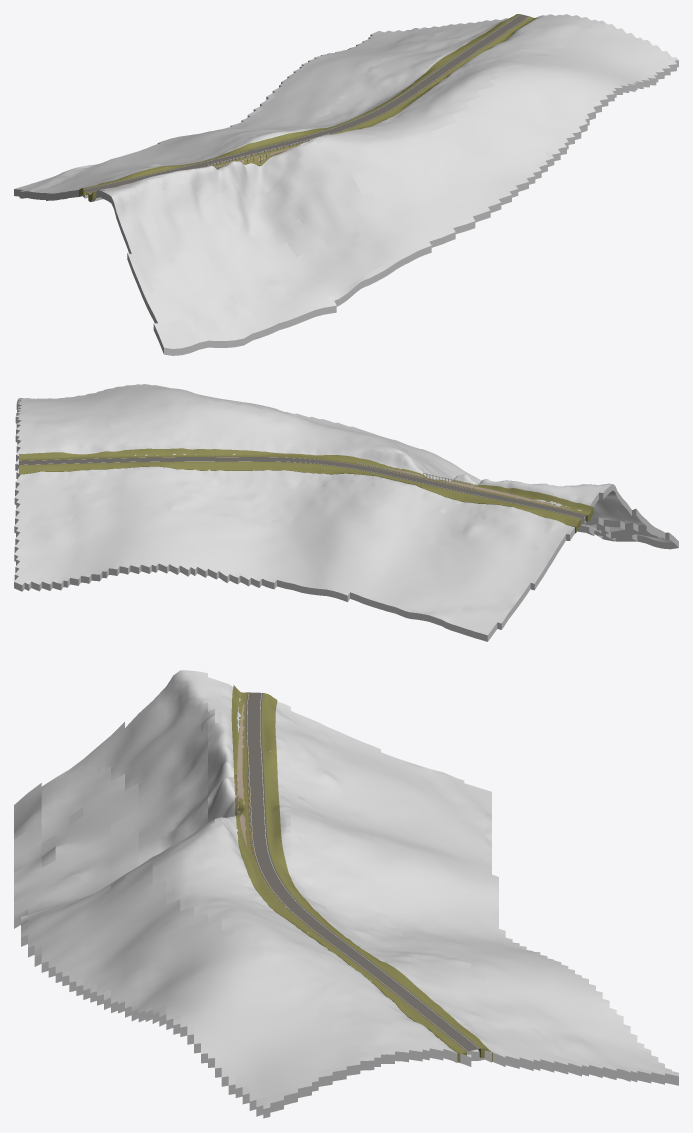
The model's file is conz_18.glb.
3 renders of one model, top to bottom at view 1: azimuth 30°, elevation 25°; view 2: azimuth 150°, elevation 25°; view 3: azimuth 270°, elevation 25°, orthographic. The views are drawn at different scales.
Visible parts, largest first — view 1: terrain18, road18, verge18R, verge18L; view 2: terrain18, verge18R, verge18L, road18, lot_gravel_w1275018; view 3: terrain18, road18, verge18R, verge18L.
Boxes of the visible parts, x1,y1,x2,y2 form: terrain18: [14, 14, 678, 355]; road18: [83, 14, 529, 193]; verge18R: [79, 14, 519, 196]; verge18L: [88, 16, 538, 201]; terrain18: [14, 384, 678, 641]; verge18R: [19, 461, 581, 533]; verge18L: [19, 448, 593, 521]; road18: [19, 456, 587, 518]; lot_gravel_w1275018: [385, 468, 573, 510]; terrain18: [14, 670, 678, 1118]; road18: [245, 692, 480, 1051]; verge18R: [261, 693, 492, 1061]; verge18L: [231, 685, 466, 1062].
Bounding box in the file's own units: 274 × 54.3 × 192.
